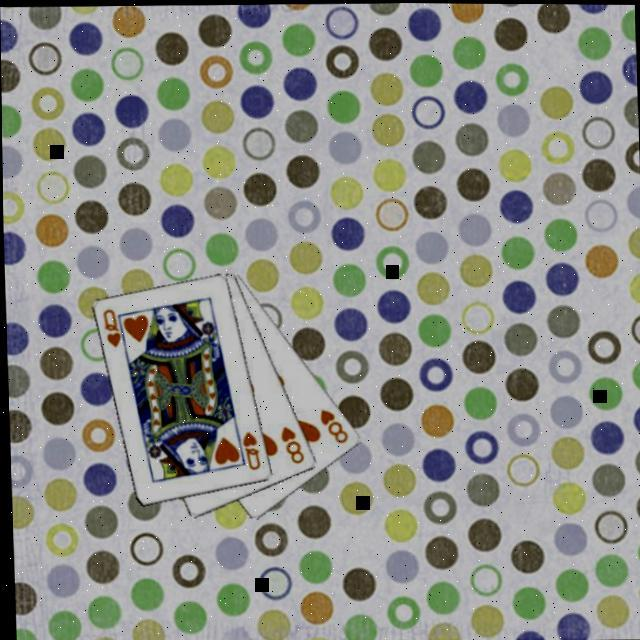8H: (316, 406, 351, 447), (276, 423, 307, 467)
QH: (100, 306, 130, 354), (238, 429, 263, 473)
